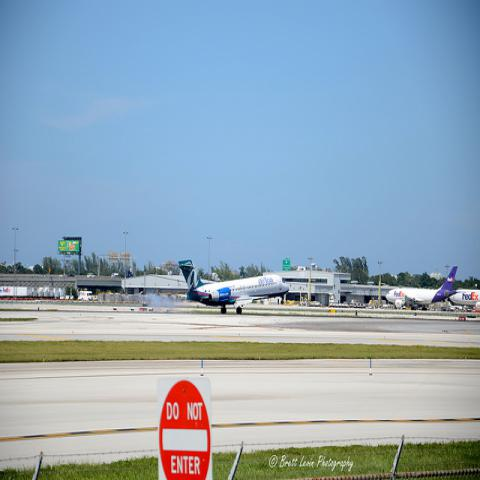truck: (0, 286, 30, 296), (78, 290, 94, 302), (44, 286, 55, 298), (39, 287, 45, 298)
